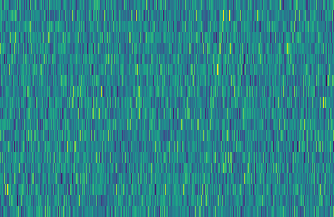signal: (195, 0, 231, 217)
